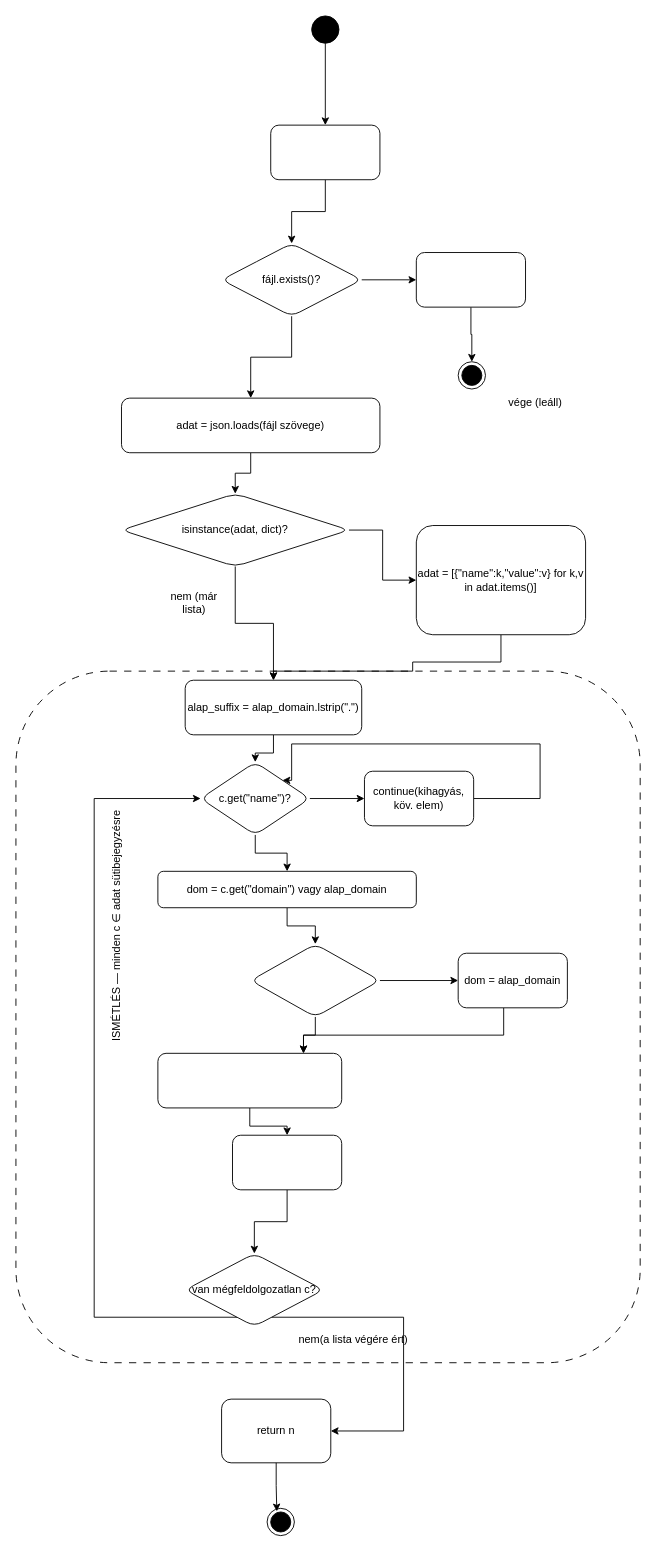
This 656x1552 diagram has some shape labels left out. Each missing label, with the box of its shape:
dom illeszkedikalap_suffix-re?: (250, 943, 380, 1017)
fájl = Path(fájl): (270, 124, 380, 180)
KAPU.s.cookies.set(name, value, domain=dom): (157, 1052, 342, 1108)
n += 1: (232, 1134, 342, 1190)
raise SystemExi "fájl nem létezik"t: (415, 252, 526, 307)
